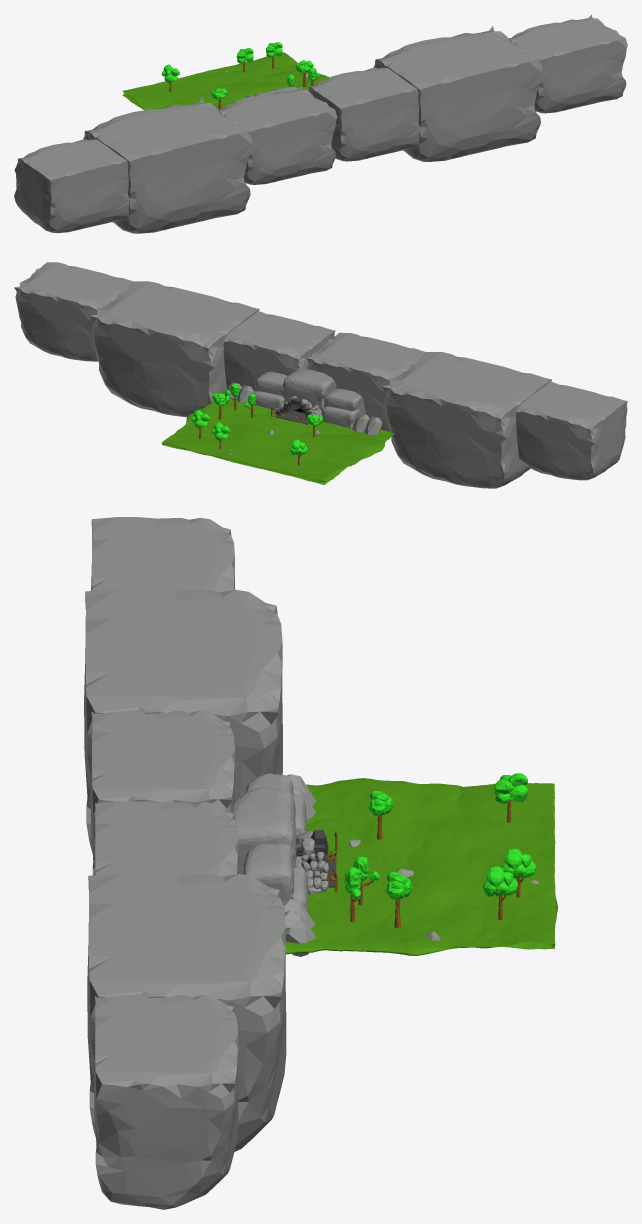
The model's file is Enviroment.fbx.
3 views of the same model, one above another, from view 1: azimuth 30°, elevation 25°; view 2: azimuth 150°, elevation 25°; view 3: azimuth 270°, elevation 25° (orthographic). The views are drawn at different scales.
Parts seen in each view (by area): view 1: Long_rock.009; view 2: Long_rock.009; view 3: Long_rock.009.
Part boxes in pixels (x1,y1,x2,y2): Long_rock.009: [14, 14, 627, 233]; Long_rock.009: [14, 262, 627, 488]; Long_rock.009: [84, 517, 557, 1209].
Bounding box in the file's own units: 11799 × 1731 × 4176.
